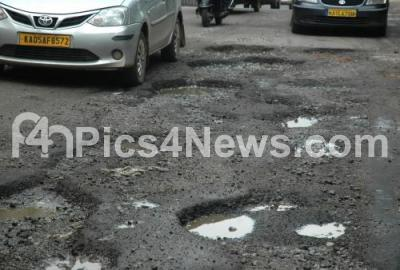pothole: (0, 173, 105, 259), (179, 185, 287, 243), (180, 50, 317, 80), (137, 73, 243, 105), (294, 209, 371, 251), (198, 30, 289, 55), (300, 36, 372, 64)
